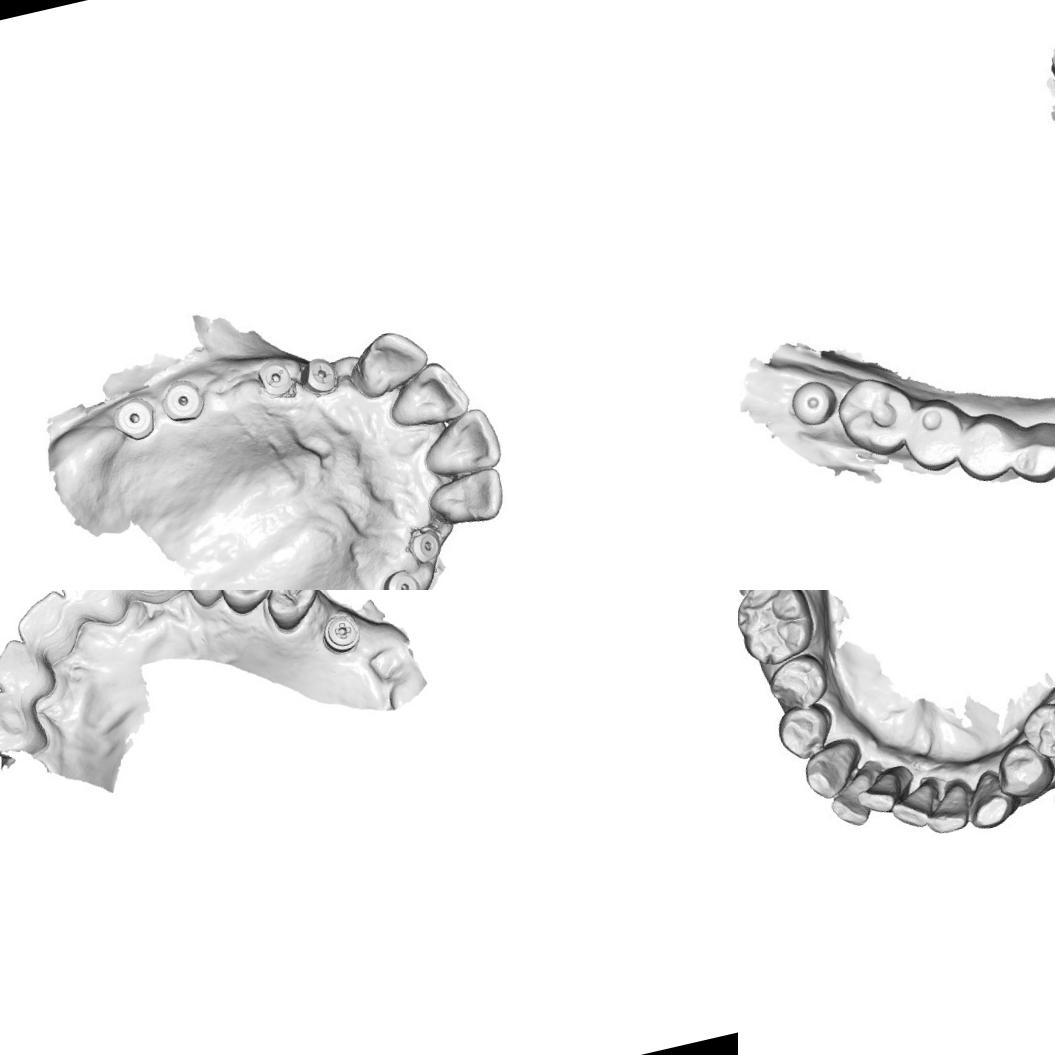canine: (796, 739, 866, 805), (0, 679, 52, 767), (961, 762, 1020, 832), (1006, 431, 1055, 489), (164, 590, 241, 614)
implant: (104, 390, 166, 452), (783, 372, 840, 435), (154, 371, 210, 431), (407, 526, 448, 568), (377, 563, 437, 590)
implant_minus: (250, 351, 300, 402)
implant_plus: (295, 350, 342, 400), (317, 609, 365, 657)
incisor: (427, 464, 514, 537), (8, 590, 83, 670), (385, 362, 467, 432), (424, 410, 502, 482), (352, 329, 428, 397), (0, 631, 59, 707), (53, 590, 132, 638), (884, 778, 945, 837), (919, 781, 975, 841), (824, 776, 877, 834), (857, 767, 914, 816), (111, 590, 183, 614)
molar: (830, 368, 924, 465), (738, 590, 821, 672)
premolar: (894, 392, 972, 477), (946, 408, 1019, 489), (763, 649, 834, 717), (988, 736, 1055, 806), (773, 702, 842, 762), (259, 590, 325, 635), (1016, 692, 1055, 767), (212, 590, 284, 620)
